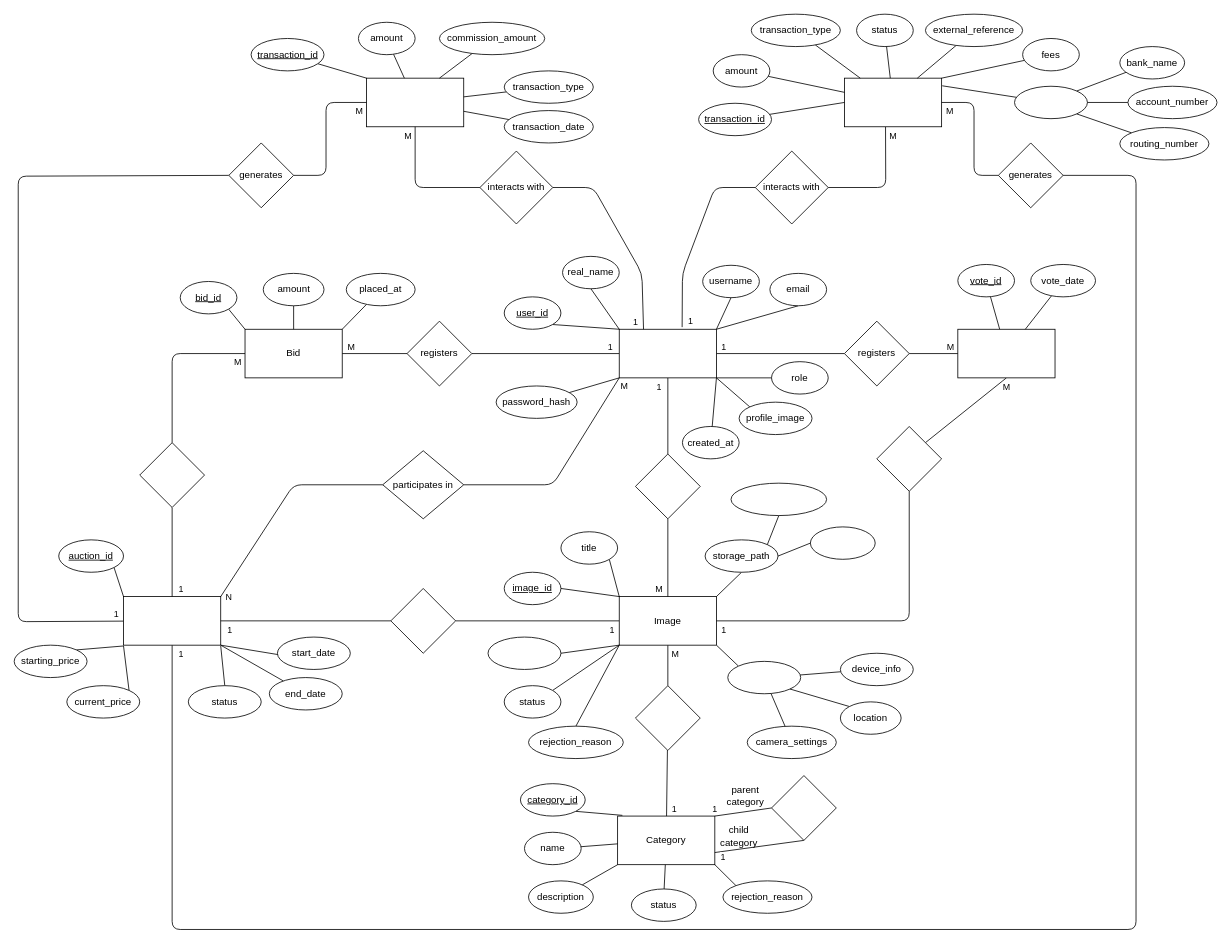
The diagram is 1231 pixels wide and 944 high, and some of its shapes have lost their labels. The centre of each missing label's shape, as x and y in pixels:
"Auction" belongs at (x=172, y=620).
"bank_details" belongs at (x=1050, y=102).
"belongs to" belongs at (x=667, y=717).
"External Financial Transaction" belongs at (x=893, y=102).
"Internal Financial Transaction" belongs at (x=415, y=102).
"metadata" belongs at (x=764, y=677).
"original_path" belongs at (x=842, y=542).
"parent of" belongs at (x=803, y=807).
"placed on" belongs at (x=172, y=474).
"rates" belongs at (x=909, y=458).
"sold in" belongs at (x=423, y=620).
"upload_date" belongs at (x=524, y=652).
"uploads" belongs at (x=667, y=486).
"User" belongs at (x=667, y=353).
"Vote" belongs at (x=1006, y=353).
"watermarked_path" belongs at (x=778, y=499).
